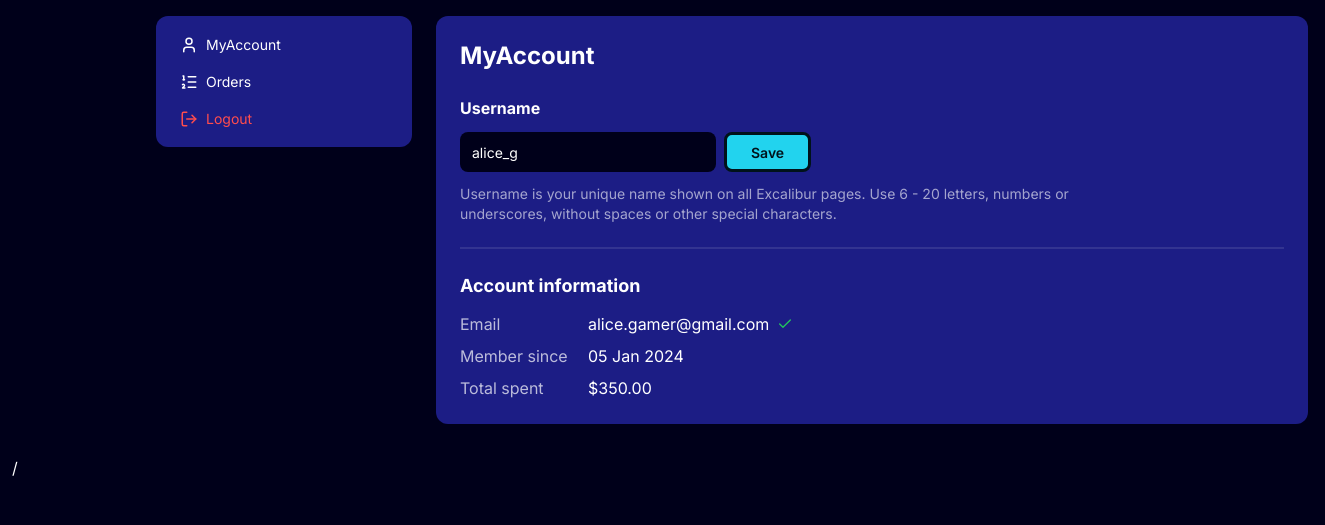
it: Profile › validates and saves the username
Expected: the text "$350.00" is shown, [588,378,652,398]
Replace the text in the field labelled "Username" with "ab cd" at (588, 152), box [460,132,716,172]
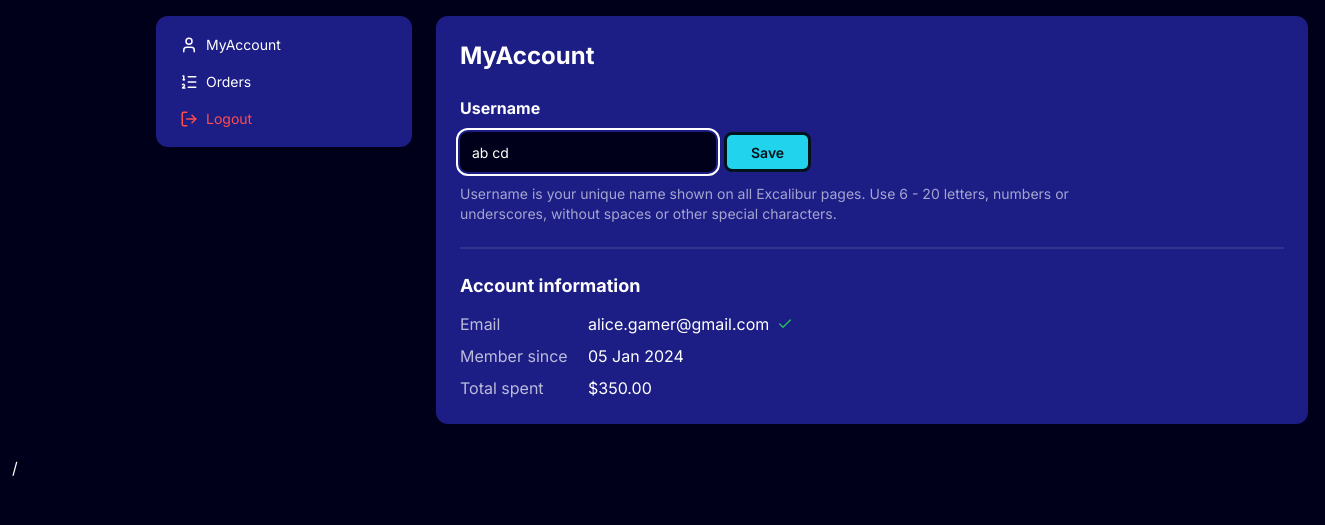
Click the button "Save" at (768, 152), box [724,132,811,172]
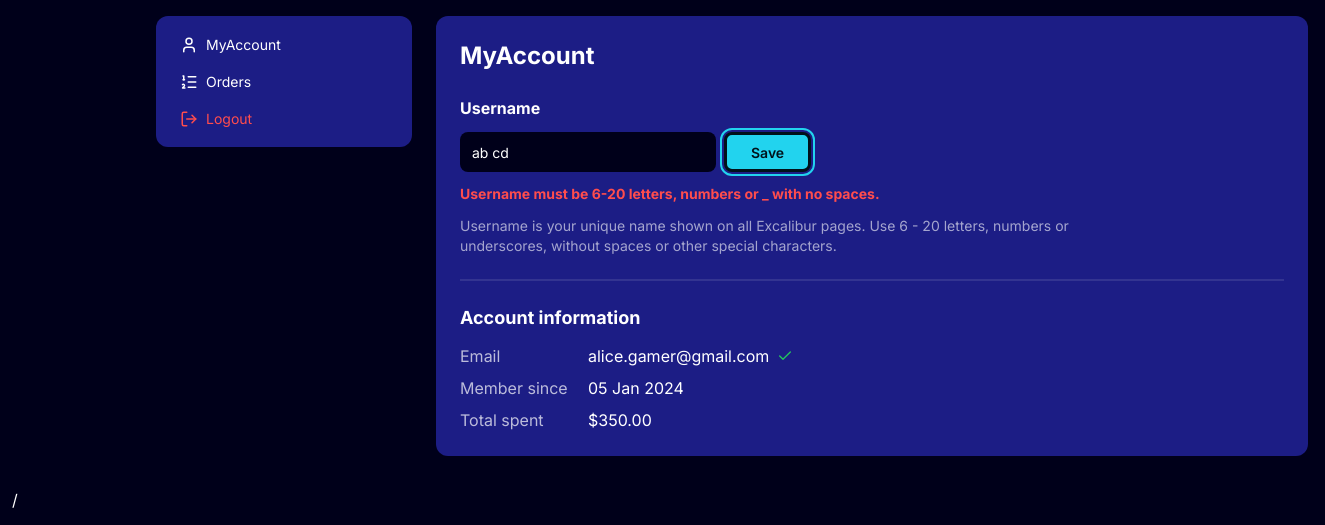
Result: the message shows "6-20 letters" at [460,185,880,202]
Replace the text in the field labelled "Username" with "bob_plays" at (588, 152), box [460,132,716,172]
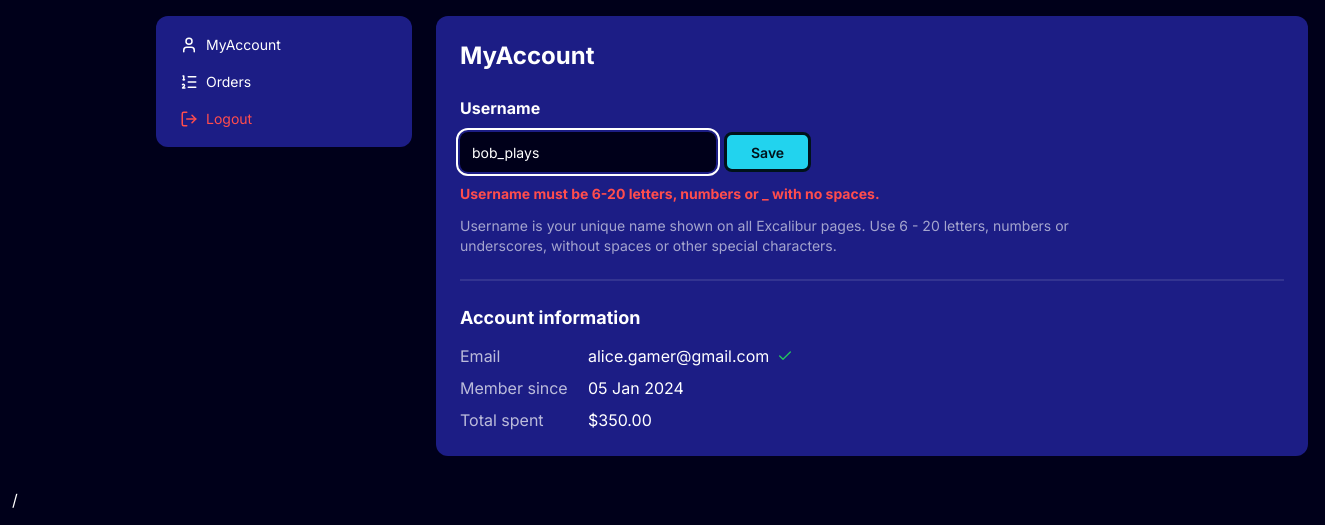
Click the button "Save" at (768, 152), box [724,132,811,172]
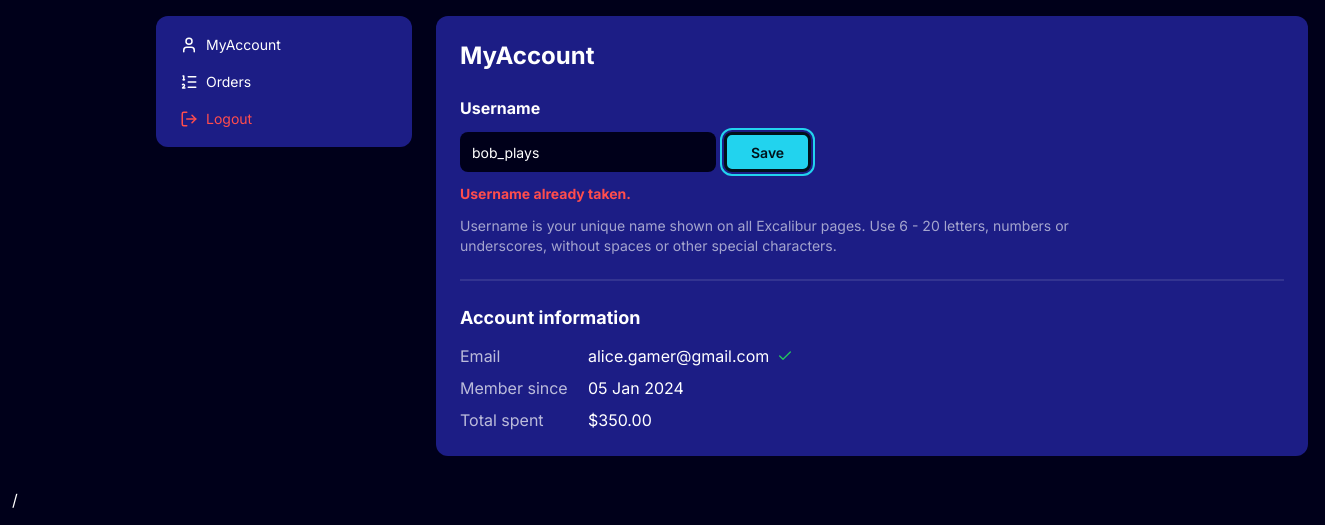
Result: the text "Username already taken." is shown at [460,185,631,202]
Replace the text in the field labelled "Username" with "alice_new" at (588, 152), box [460,132,716,172]
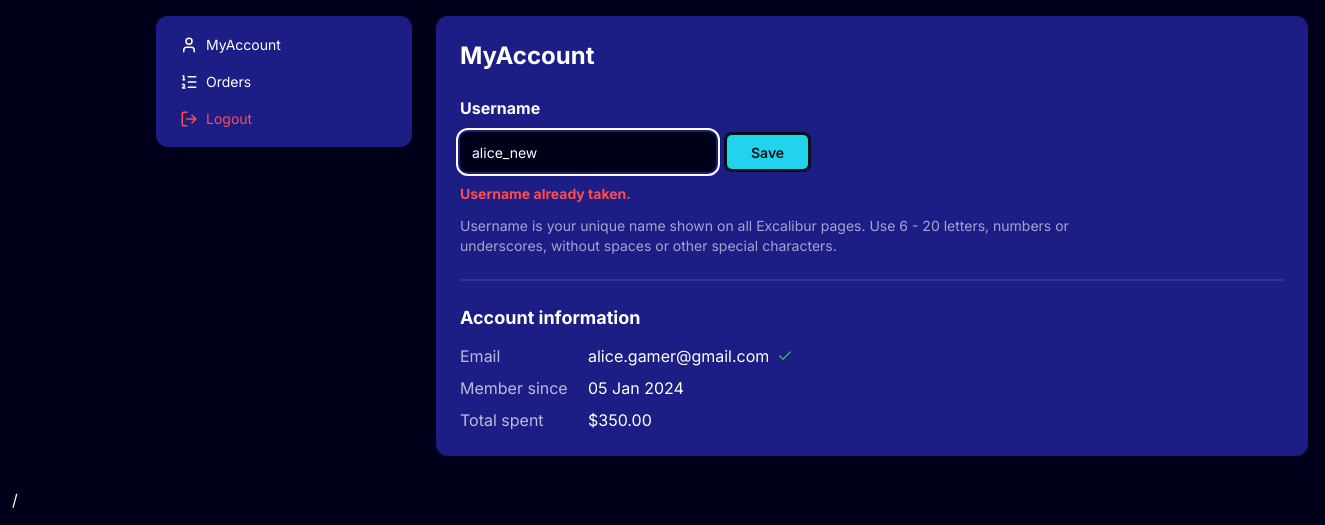
Click the button "Save" at (768, 152), box [724,132,811,172]
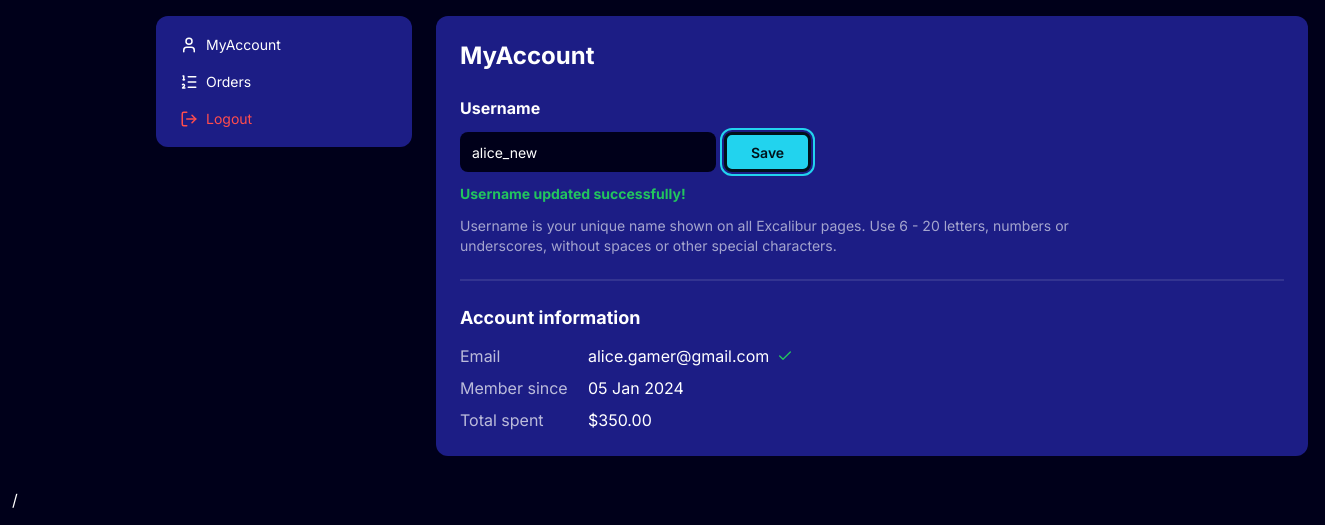
Result: the text "Username updated successfully!" is shown at [460,185,686,202]
